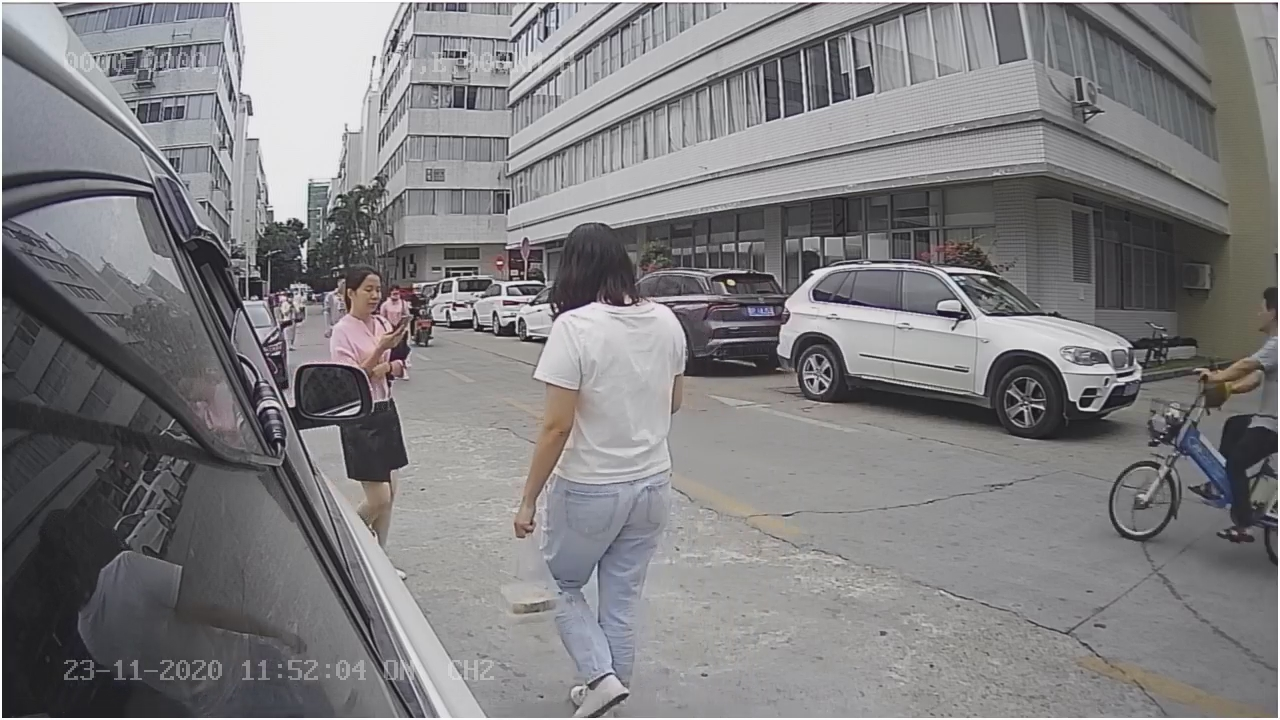person: (490, 222, 713, 719), (325, 261, 410, 364)
